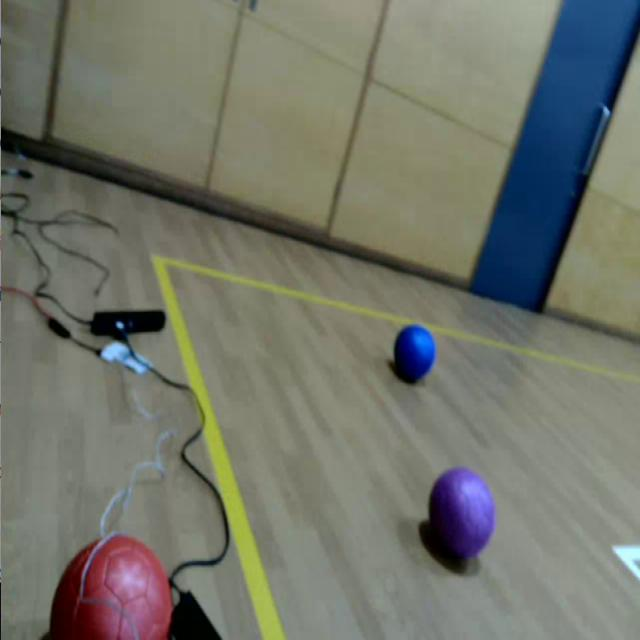blue_ball: (393, 324, 436, 381)
purple_ball: (425, 465, 496, 559)
red_ball: (49, 536, 173, 640)
